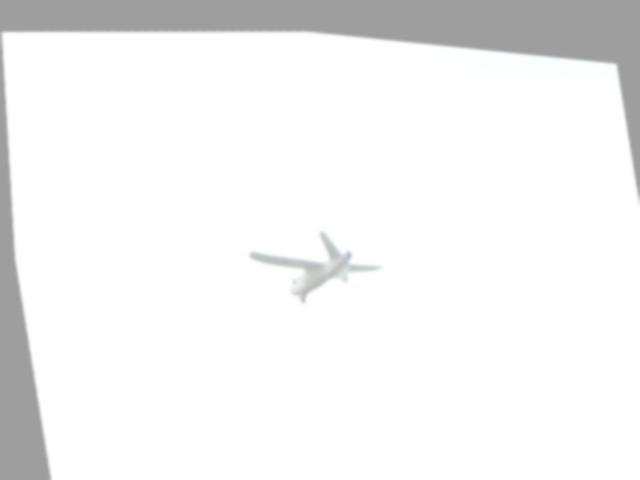uav: (235, 195, 400, 326)
